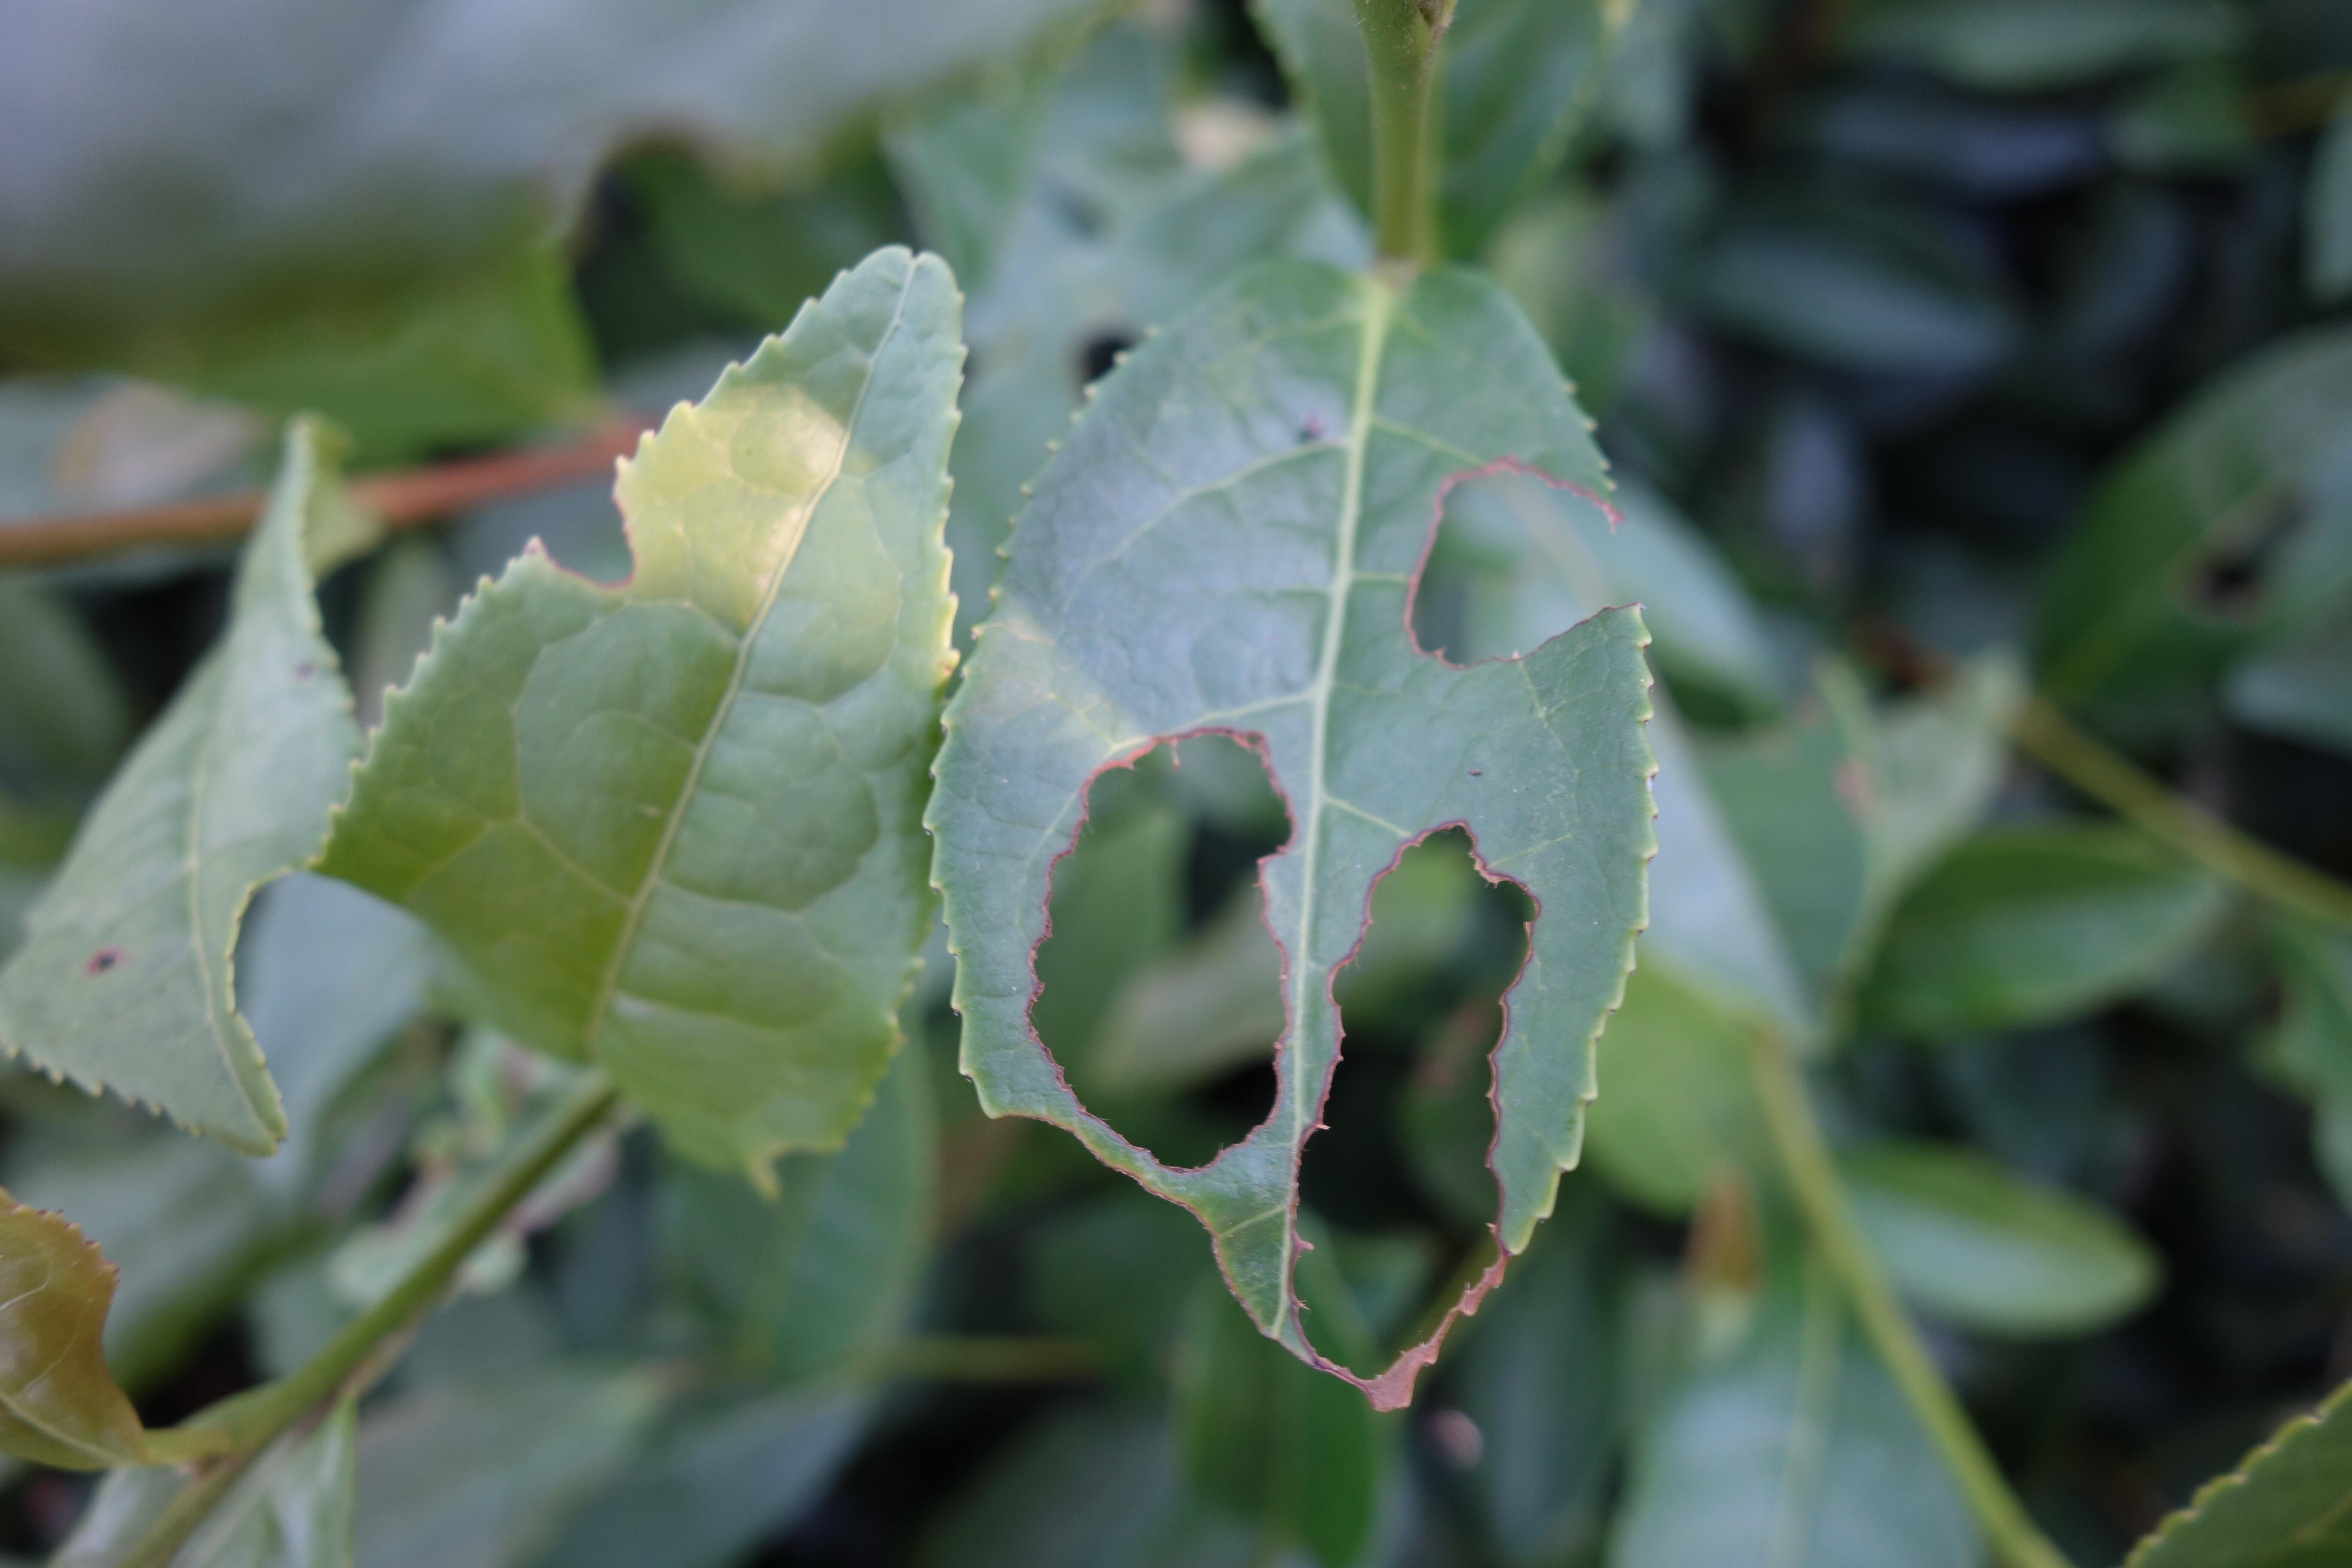chihuo_high: (927, 240, 1662, 1423)
chihuo_low: (317, 247, 966, 1206)
tanju_low: (3, 1185, 163, 1477)
